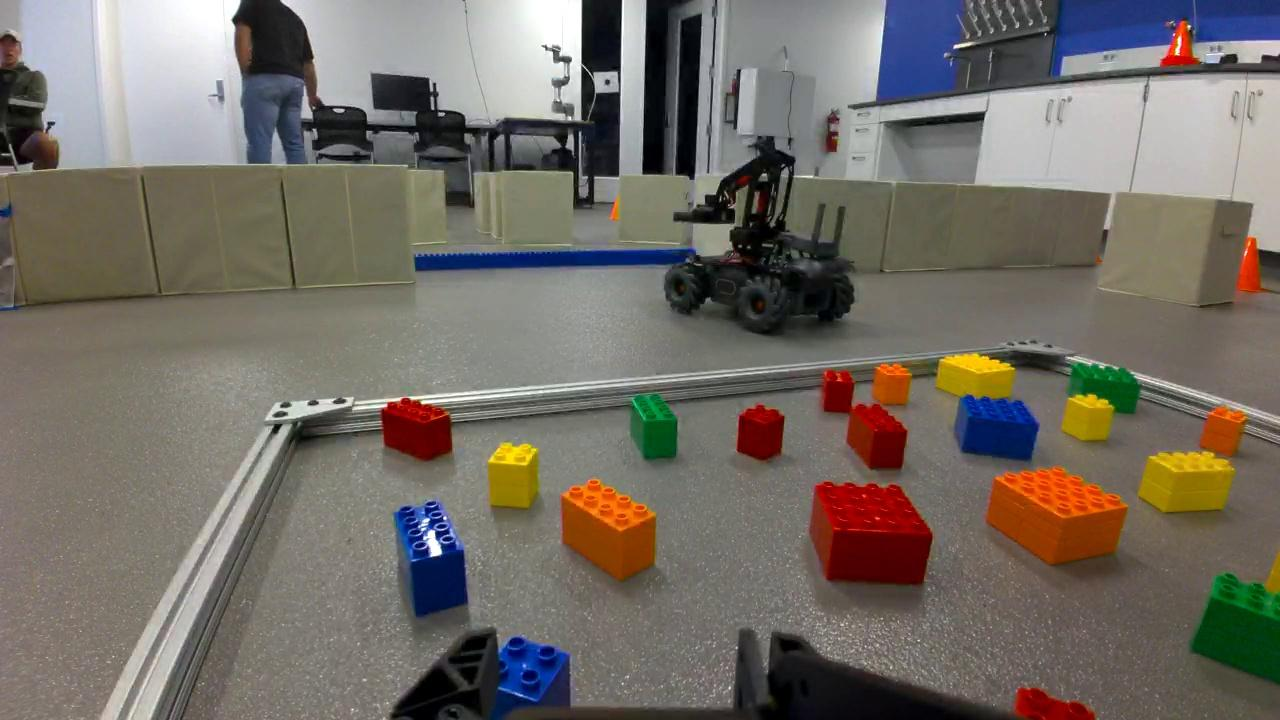2x2lego: (486, 440, 542, 511), (736, 401, 786, 461), (1063, 393, 1117, 445), (1199, 406, 1247, 457), (869, 360, 914, 408), (819, 369, 855, 416)
2x4lego: (557, 476, 659, 585), (391, 499, 471, 617), (1141, 450, 1236, 514), (381, 394, 453, 461), (849, 397, 910, 471), (627, 390, 681, 462)
4x4lego: (986, 461, 1130, 567), (806, 477, 935, 584), (951, 391, 1038, 460), (1066, 360, 1143, 413), (936, 351, 1018, 396)
